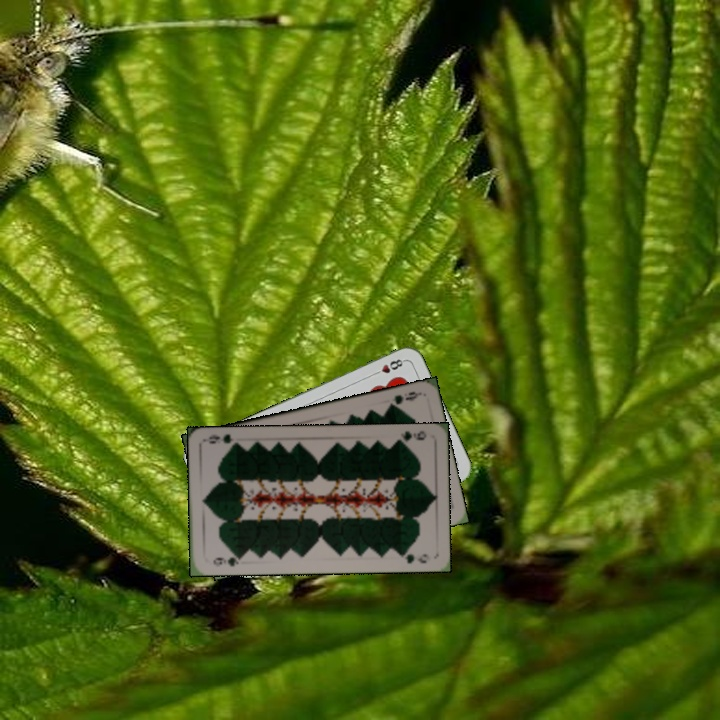G9: (384, 387, 423, 411), (391, 427, 429, 447), (209, 551, 245, 569)
H8: (369, 355, 407, 379)
